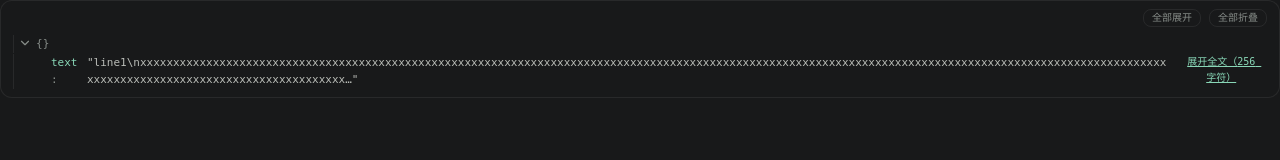
Test: JsonViewer 组件 › 长字符串先截断，可「展开全文」；换行显示为转义序列
Check: the text "line1\\n" is shown, box left=87, top=56, right=1166, bottom=86
Step 1. Click the button "展开全文（256 字符）" → (1221, 70), box left=1175, top=54, right=1267, bottom=86
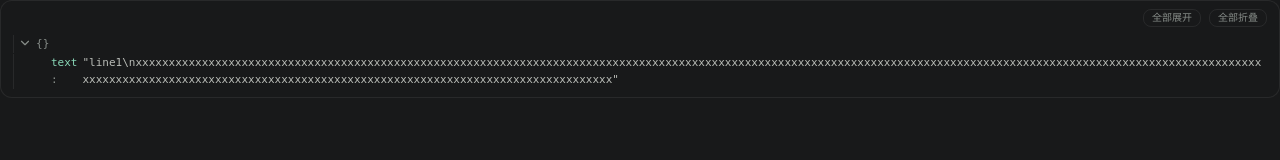
Check: the button "展开全文" is gone
